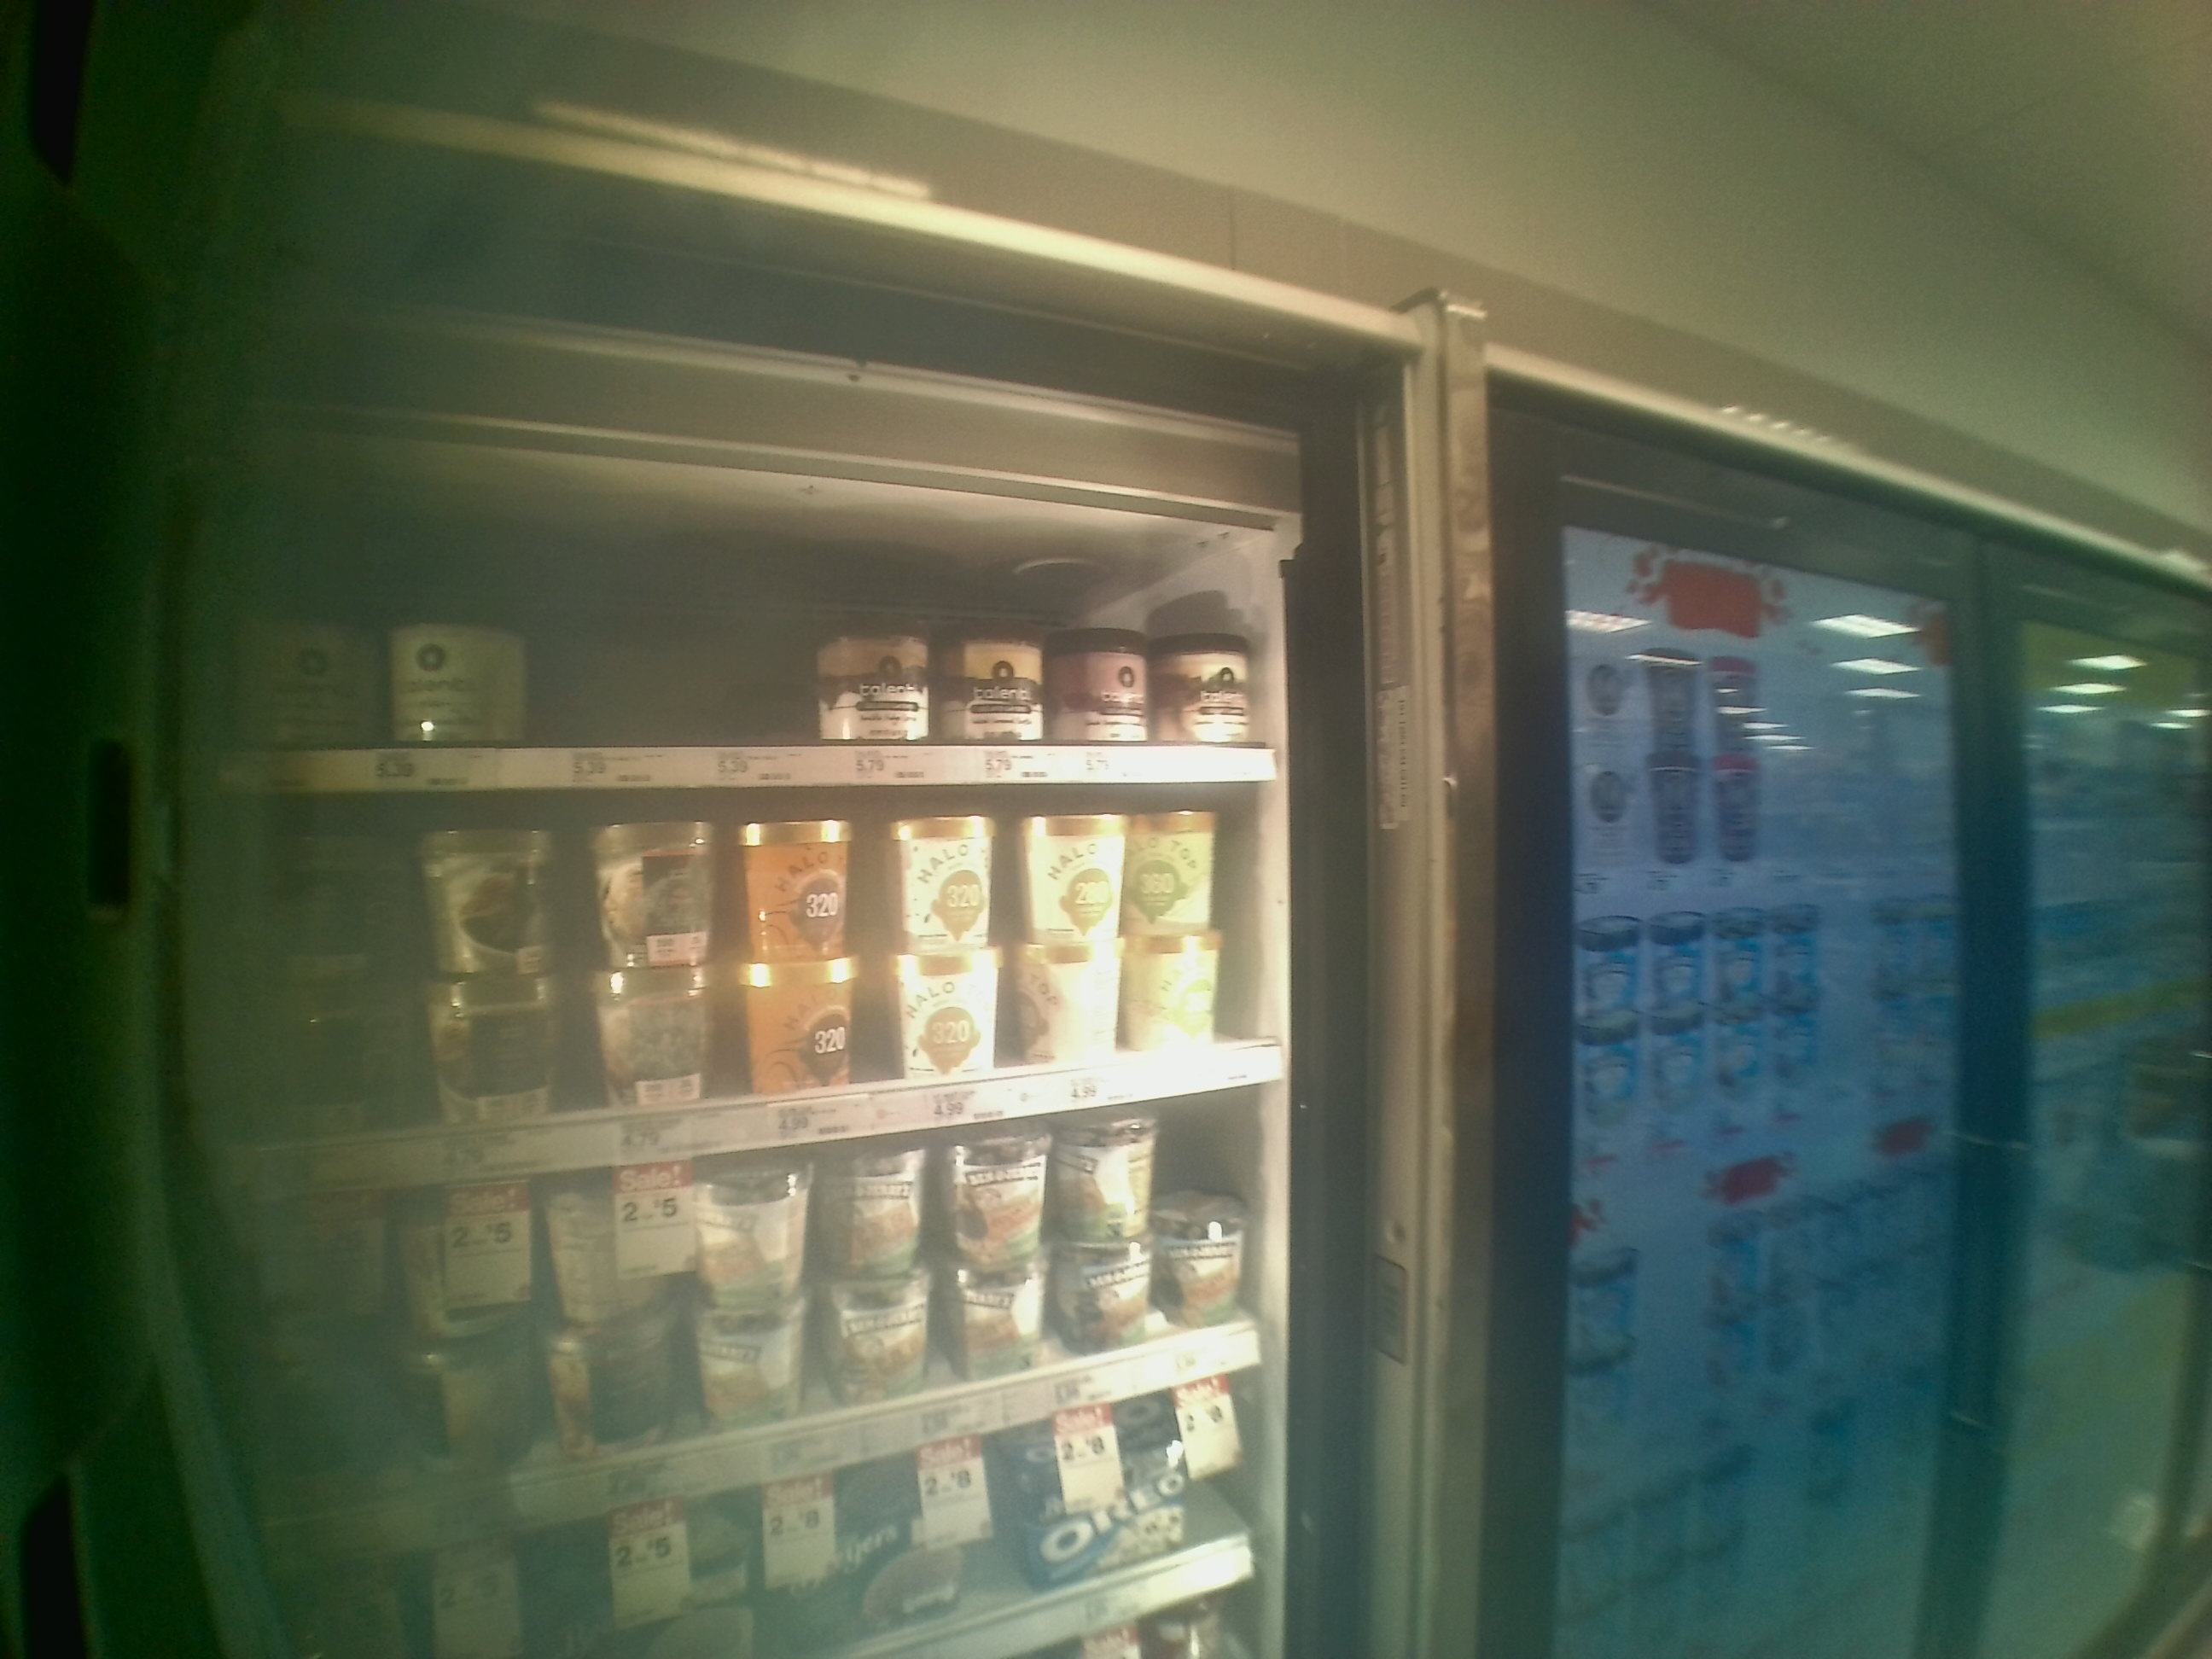shelf: (212, 796, 1299, 1202), (216, 437, 1315, 793)
